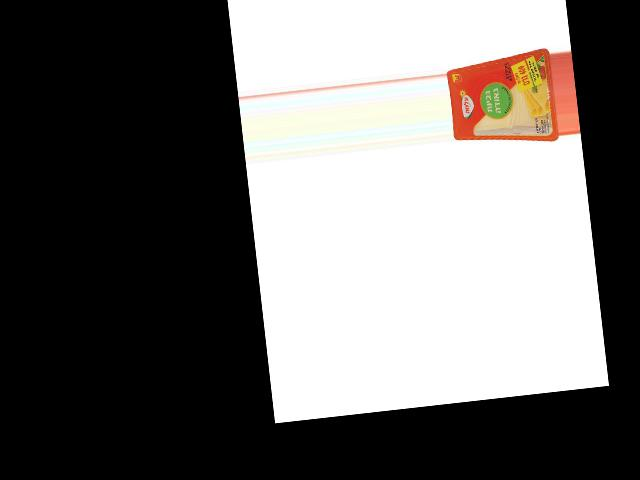cheese: (445, 47, 559, 151)
